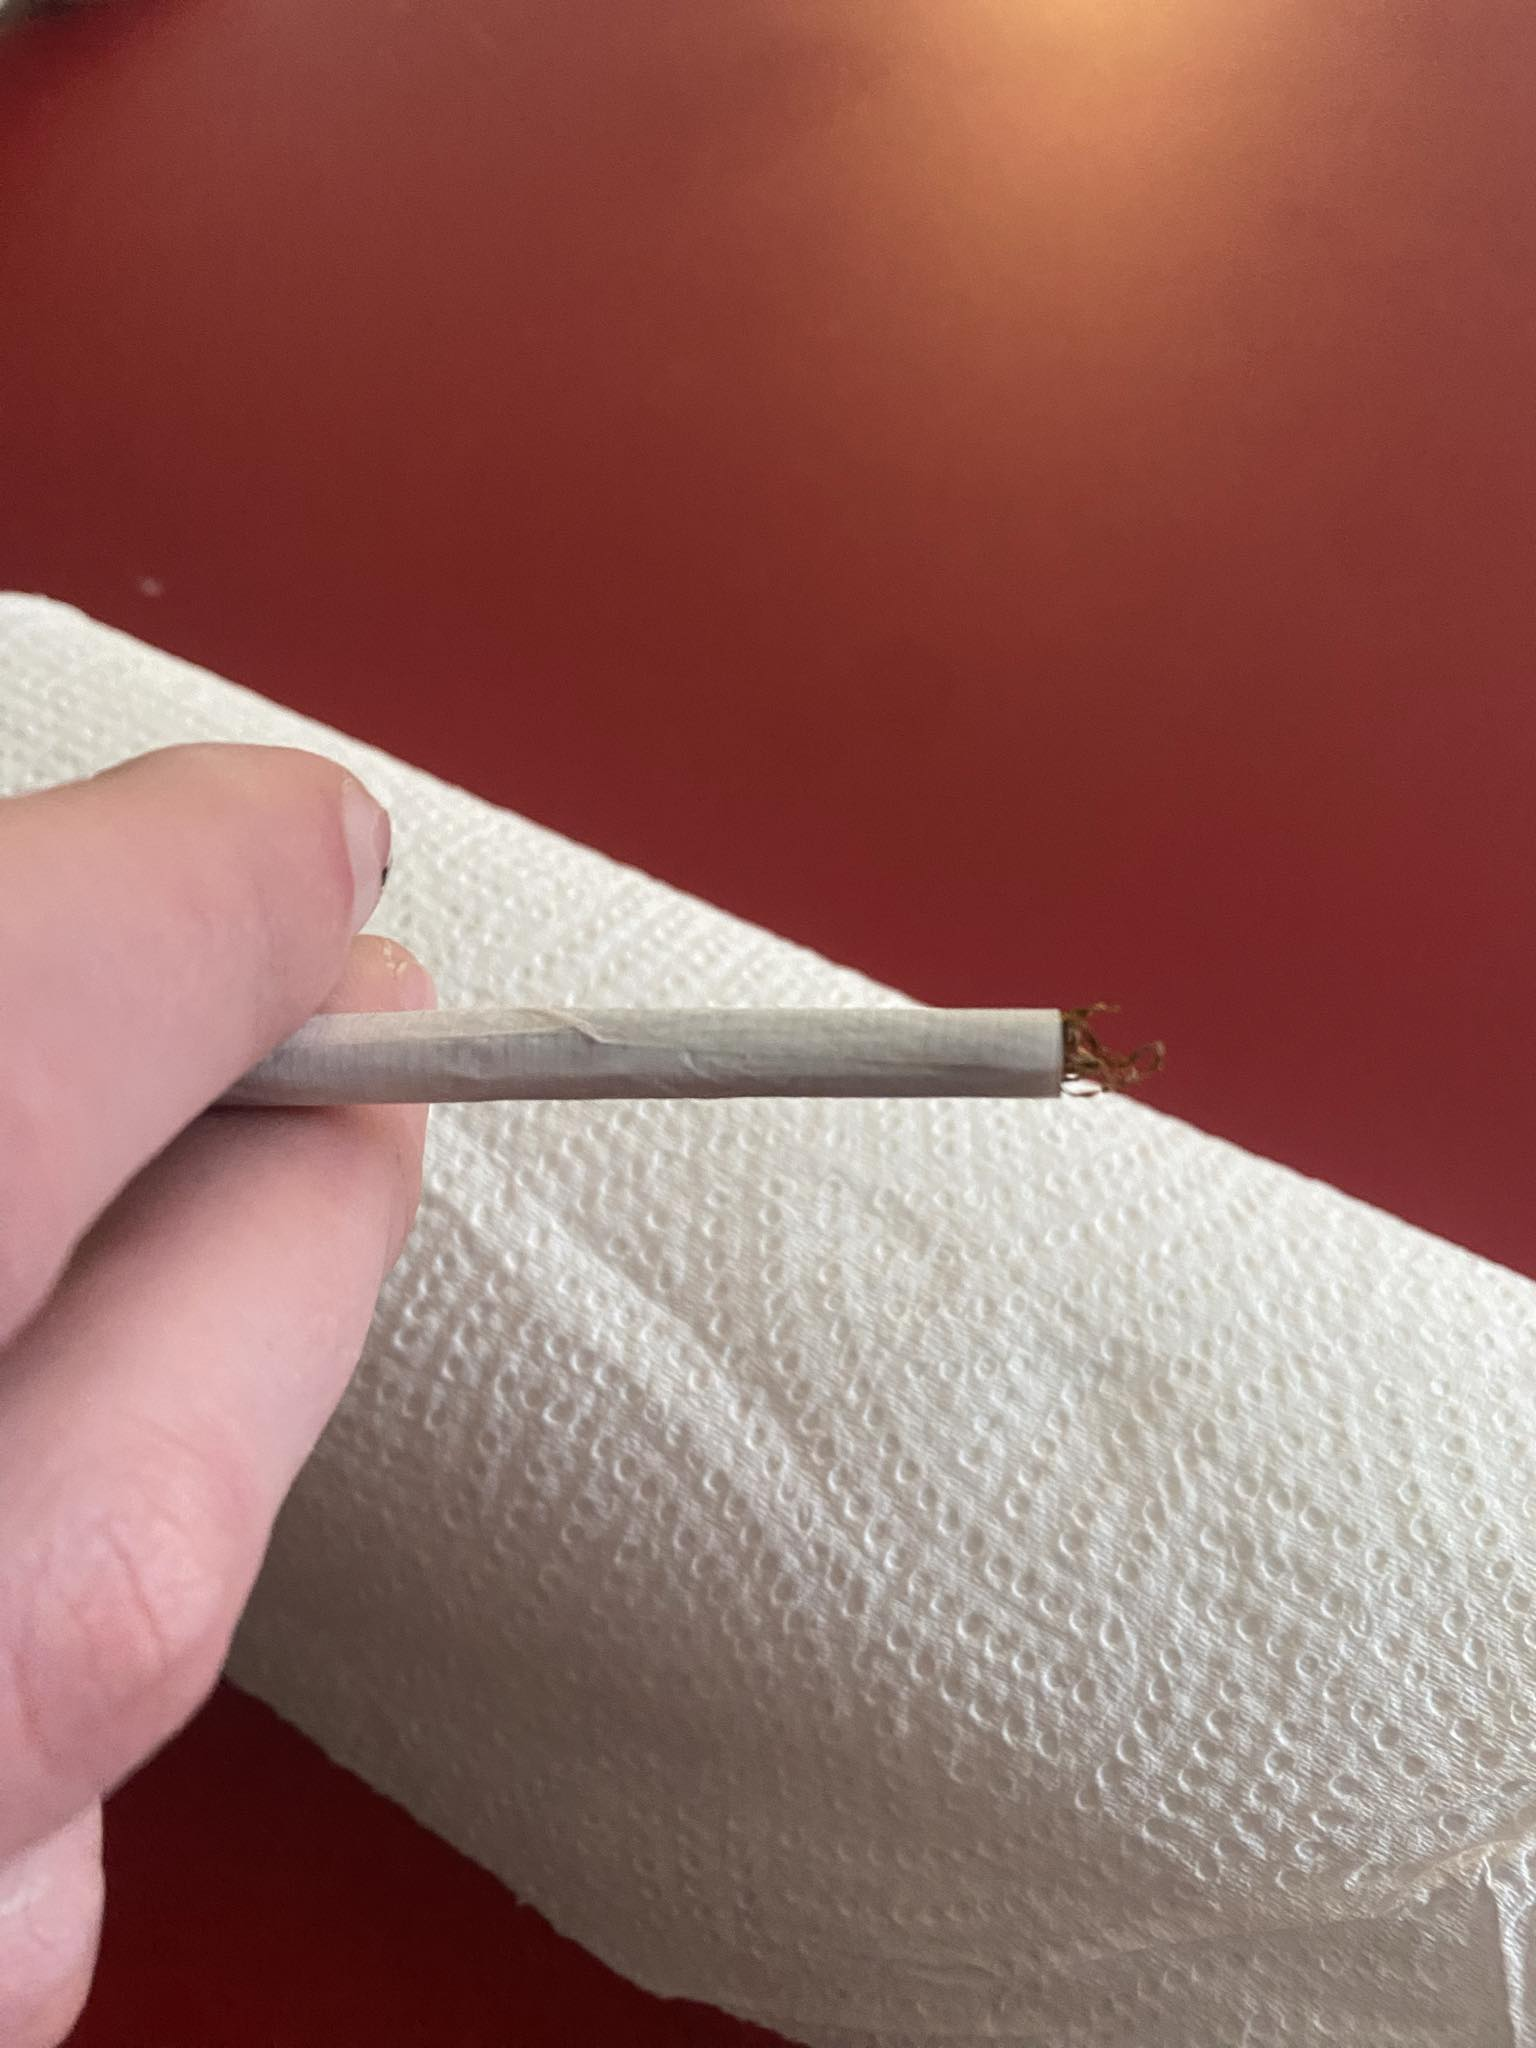Cigarette: (219, 1009, 1173, 1098)
